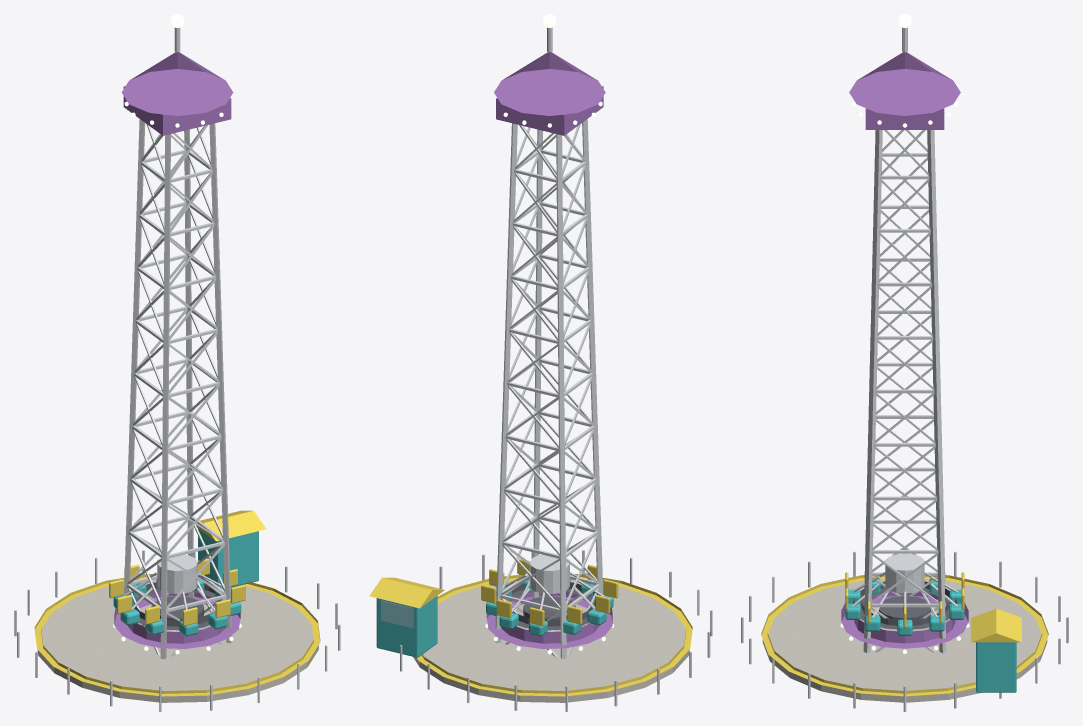
The model's file is theme-park-rides-and-coasters-theme-park-rides-and-coa-a2e7ac6f__28658.glb.
3 renders of one model, left to right at view 1: azimuth 30°, elevation 25°; view 2: azimuth 150°, elevation 25°; view 3: azimuth 270°, elevation 25°, orthographic.
Parts seen in each view (by area): view 1: theme-park-rides-and-coasters-drop-tower, drop/purple, drop/yellow, drop/steel, drop/teal, drop/charcoal; view 2: theme-park-rides-and-coasters-drop-tower, drop/purple, drop/yellow, drop/steel, drop/teal, drop/charcoal; view 3: theme-park-rides-and-coasters-drop-tower, drop/purple, drop/steel, drop/charcoal, drop/teal, drop/yellow.
Boxes of the visible parts, x1=… form: theme-park-rides-and-coasters-drop-tower: x1=14, y1=14, x2=340, y2=711; drop/purple: x1=114, y1=592, x2=240, y2=648; drop/yellow: x1=109, y1=558, x2=245, y2=626; drop/steel: x1=122, y1=554, x2=222, y2=612; drop/teal: x1=113, y1=579, x2=241, y2=636; drop/charcoal: x1=129, y1=582, x2=218, y2=630; theme-park-rides-and-coasters-drop-tower: x1=369, y1=14, x2=712, y2=711; drop/purple: x1=486, y1=592, x2=612, y2=648; drop/yellow: x1=481, y1=558, x2=618, y2=626; drop/steel: x1=504, y1=554, x2=604, y2=612; drop/teal: x1=486, y1=579, x2=613, y2=636; drop/charcoal: x1=508, y1=582, x2=597, y2=630; theme-park-rides-and-coasters-drop-tower: x1=741, y1=14, x2=1068, y2=711; drop/purple: x1=841, y1=591, x2=968, y2=648; drop/steel: x1=852, y1=553, x2=957, y2=617; drop/charcoal: x1=853, y1=581, x2=956, y2=629; drop/teal: x1=845, y1=578, x2=964, y2=635; drop/yellow: x1=845, y1=572, x2=964, y2=627.
Size of the model in its own units: 12.9 by 27.31 by 12.9.
8 materials, 1 textured.
